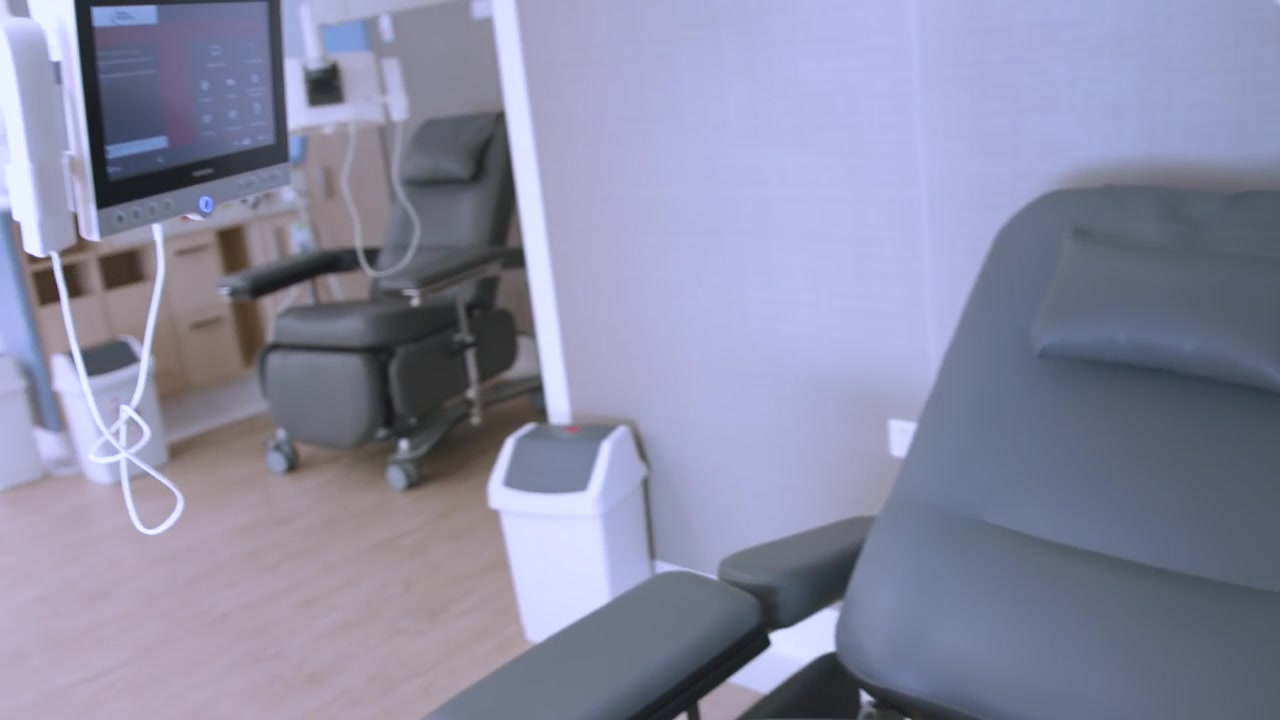bedside_monitor: (56, 1, 295, 242)
handle: (190, 313, 222, 329), (174, 244, 208, 257)
sofa: (419, 181, 1280, 720), (216, 114, 515, 488)
waste_bin: (486, 421, 649, 643), (48, 335, 169, 489)
